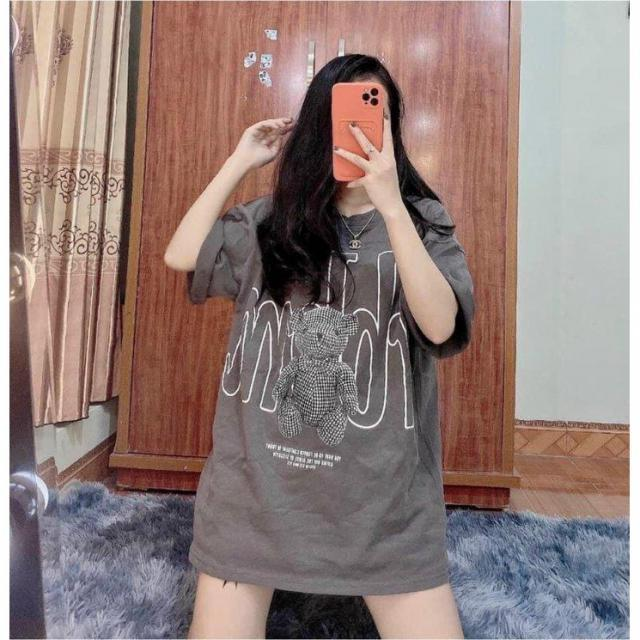Shirt: (177, 178, 482, 604)
